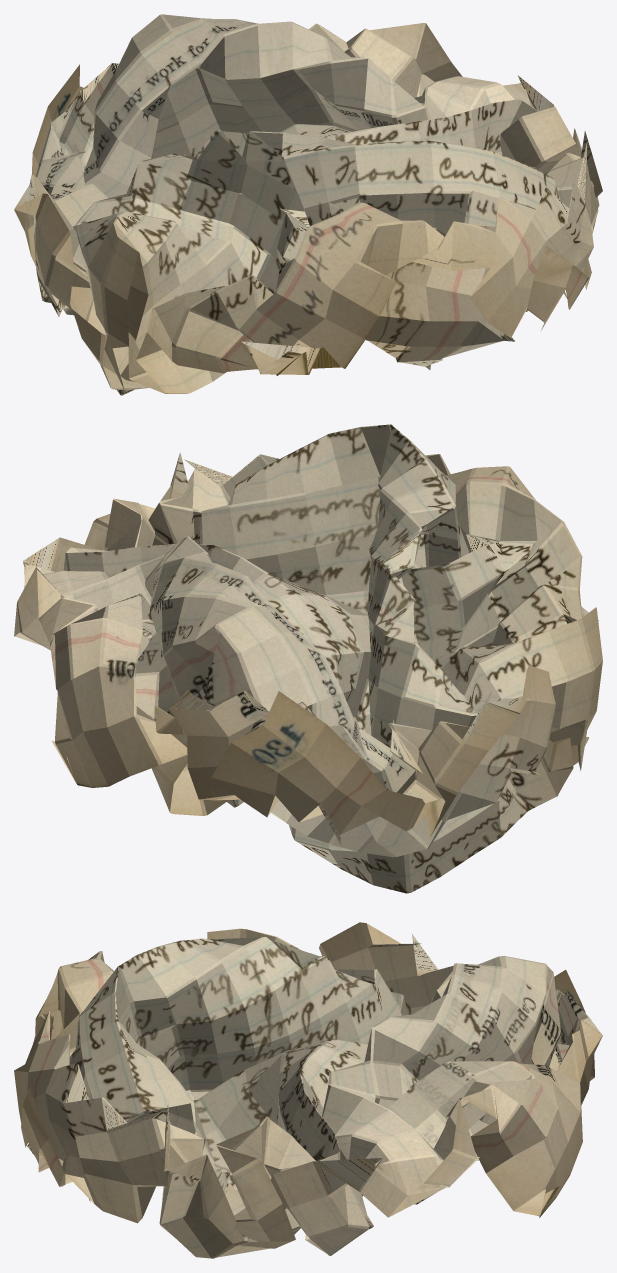
The model's file is crumple2.gltf.
3 renders of one model, top to bottom at view 1: azimuth 30°, elevation 25°; view 2: azimuth 150°, elevation 25°; view 3: azimuth 270°, elevation 25°, orthographic. The views are drawn at different scales.
Parts seen in each view (by area): view 1: Plane; view 2: Plane; view 3: Plane.
Boxes of the visible parts, x1=… form: Plane: x1=14, y1=14, x2=602, y2=395; Plane: x1=14, y1=424, x2=602, y2=893; Plane: x1=14, y1=922, x2=602, y2=1258.
Size of the model in its own units: 2.27 by 1.32 by 2.37.
1 material, 1 textured.
